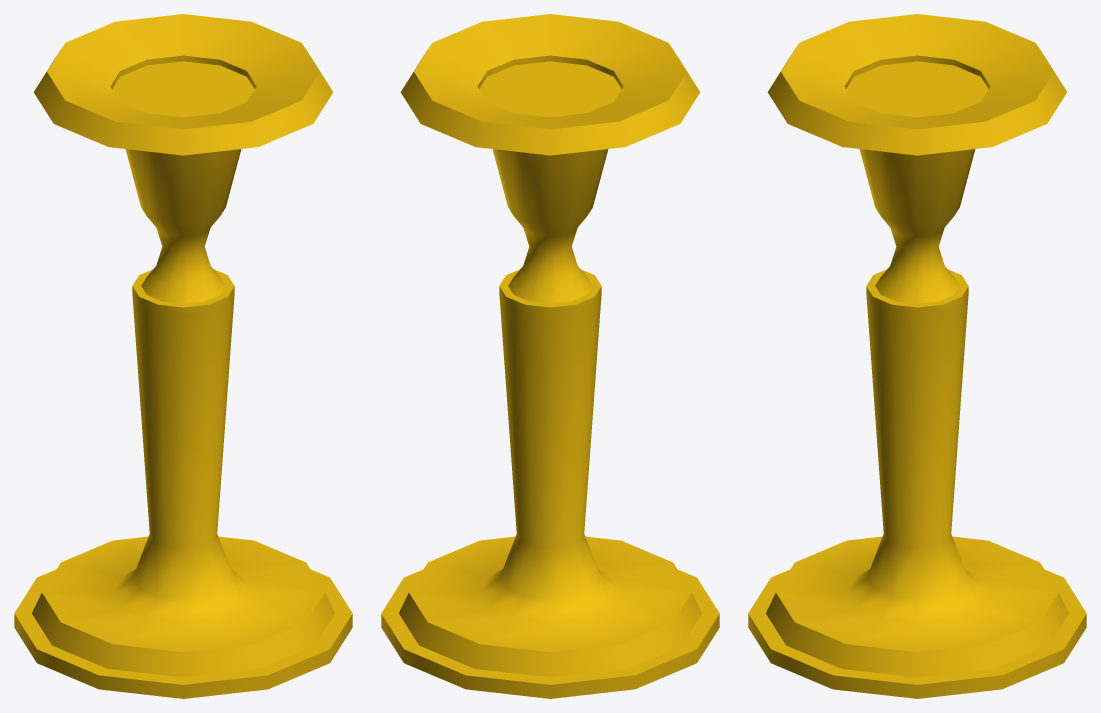
The model's file is bcf49ac9-d202-4512-80db-177b6afede82.glb.
3 renders of one model, left to right at view 1: azimuth 30°, elevation 25°; view 2: azimuth 150°, elevation 25°; view 3: azimuth 270°, elevation 25°, orthographic.
Visible parts, largest first — view 1: GoldenCandlestick; view 2: GoldenCandlestick; view 3: GoldenCandlestick.
Boxes of the visible parts, <box> form: GoldenCandlestick: <box>14,14,352,698</box>; GoldenCandlestick: <box>381,14,719,698</box>; GoldenCandlestick: <box>748,14,1086,698</box>.
Size of what is drawn, in the model's own units: 0.1665 by 0.3016 by 0.1665.
Materials: 1 (1 with a texture image).
